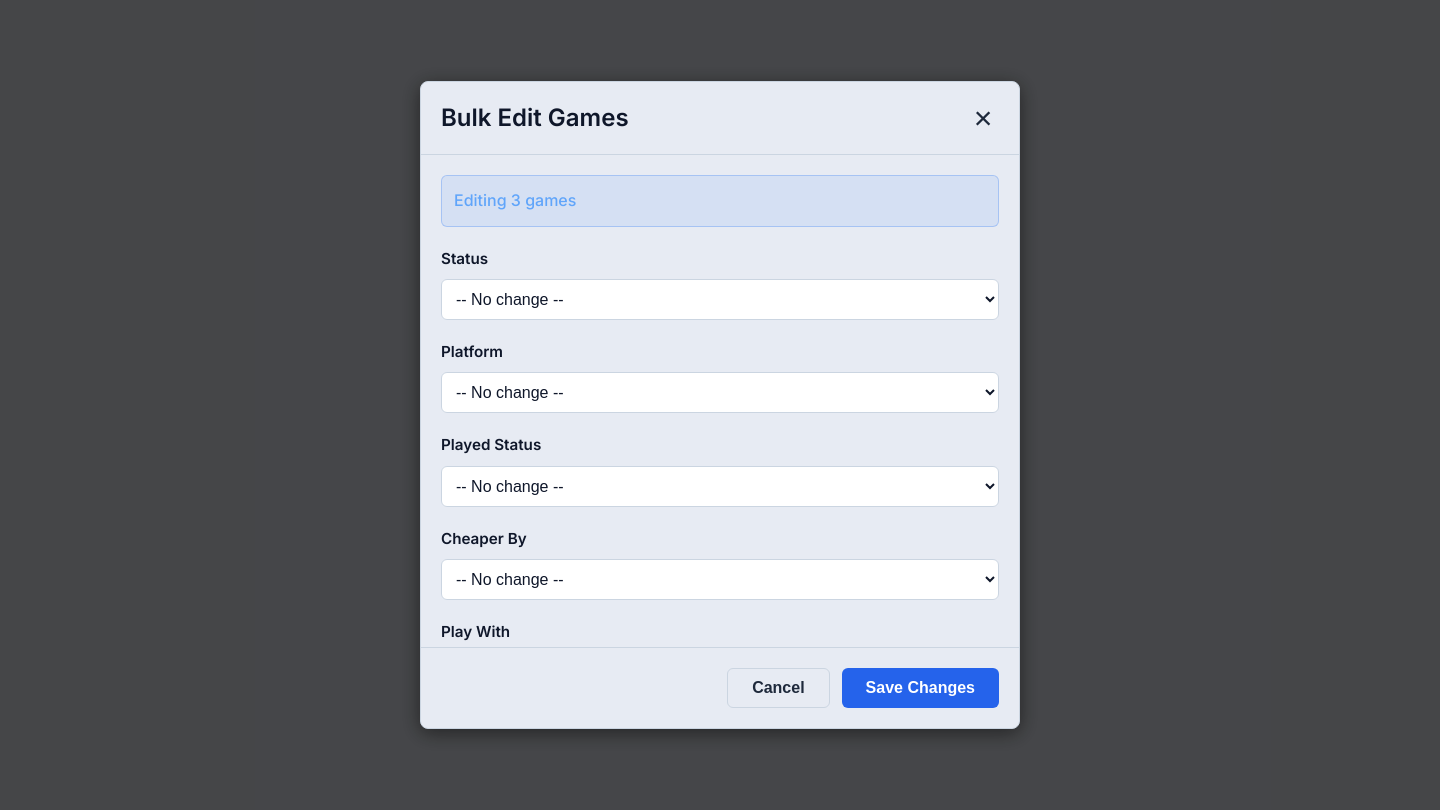
Scenario: BulkEditModal › shows a warning toast when saving with no changes
Click the button "Save Changes" at (920, 688), box [842,668,999,708]
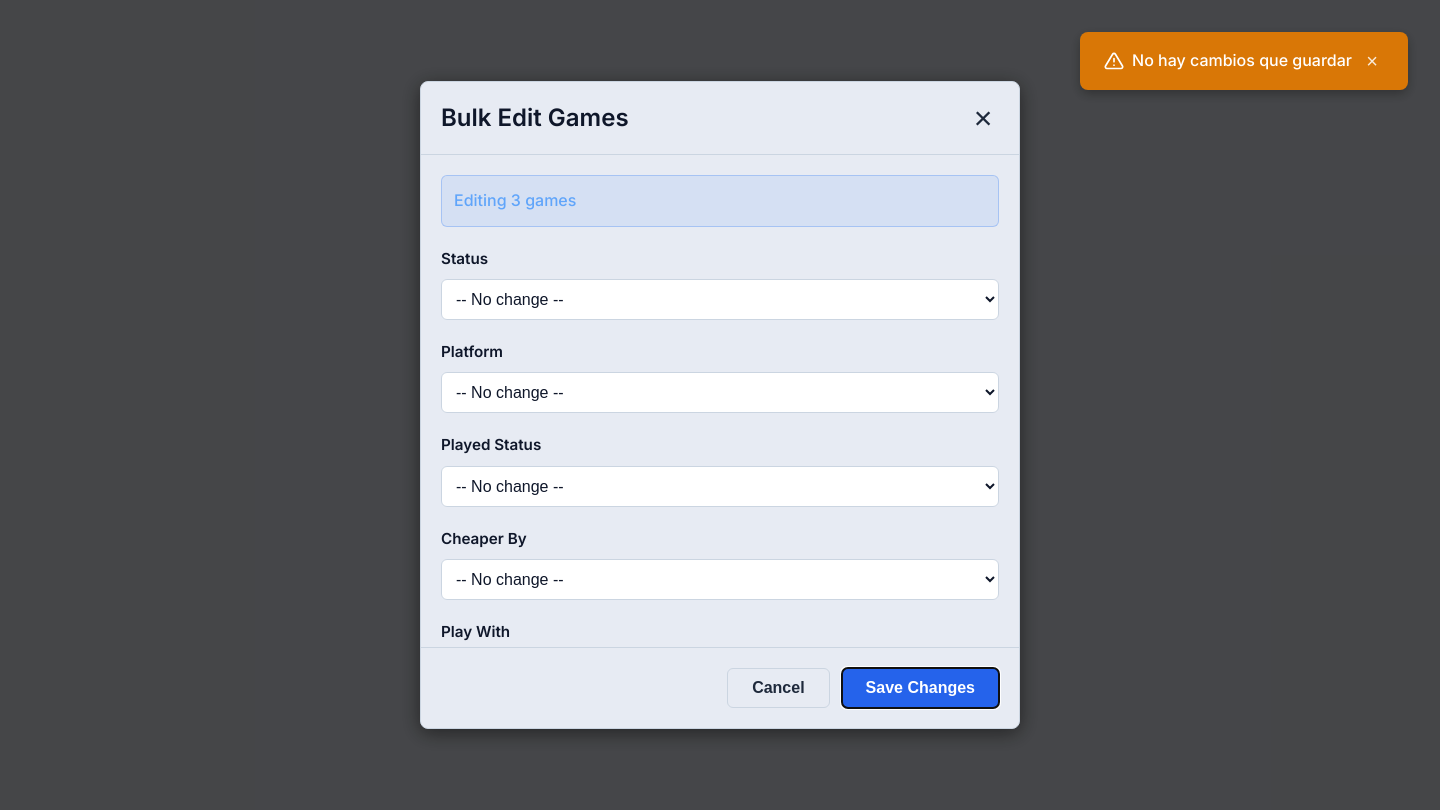
expect the text "No hay cambios que guardar" is shown: met, box [1132,48,1352,74]
